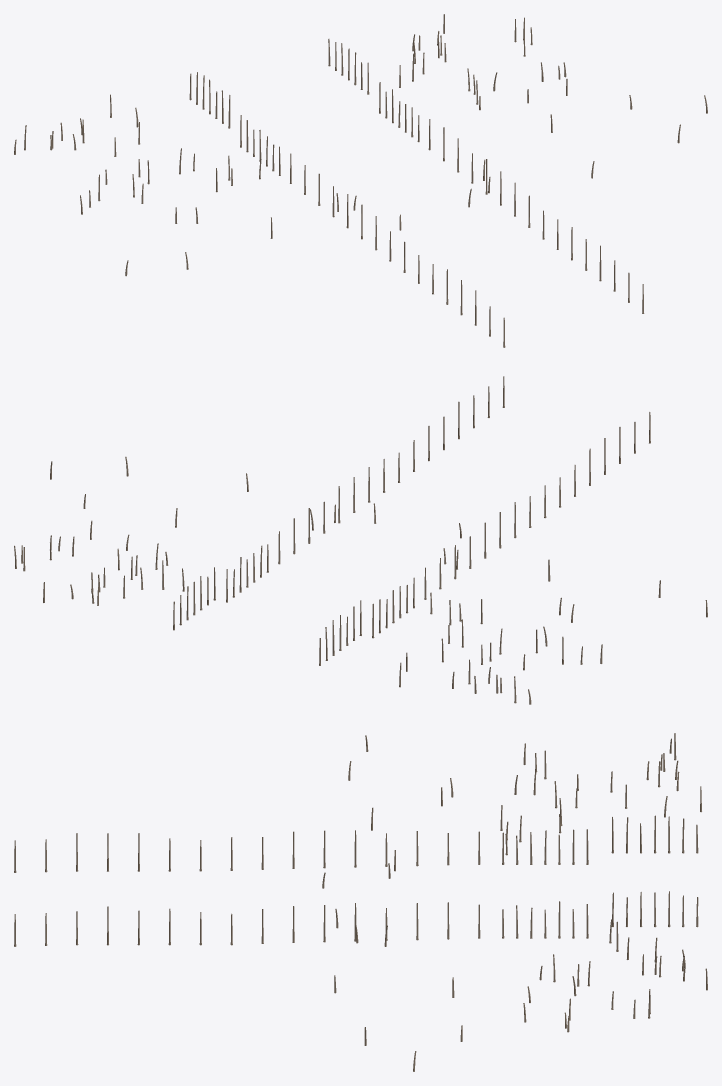
The model's file is E6-6_Palmeiras_troncos.fbx.
3 views of the same model, one above another, from view 1: azimuth 30°, elevation 25°; view 2: azimuth 150°, elevation 25°; view 3: azimuth 270°, elevation 25° (orthographic). The views are drawn at different scales.
Parts seen in each view (by area): view 1: E6-6_Palmeiras_troncos; view 2: E6-6_Palmeiras_troncos; view 3: E6-6_Palmeiras_troncos.
Part boxes in pixels (left/top/right/bottom): E6-6_Palmeiras_troncos: left=14, top=14, right=707, bottom=347; E6-6_Palmeiras_troncos: left=14, top=376, right=707, bottom=704; E6-6_Palmeiras_troncos: left=14, top=733, right=707, bottom=1071.
Bounding box in the file's own units: 270 × 22.23 × 247.
